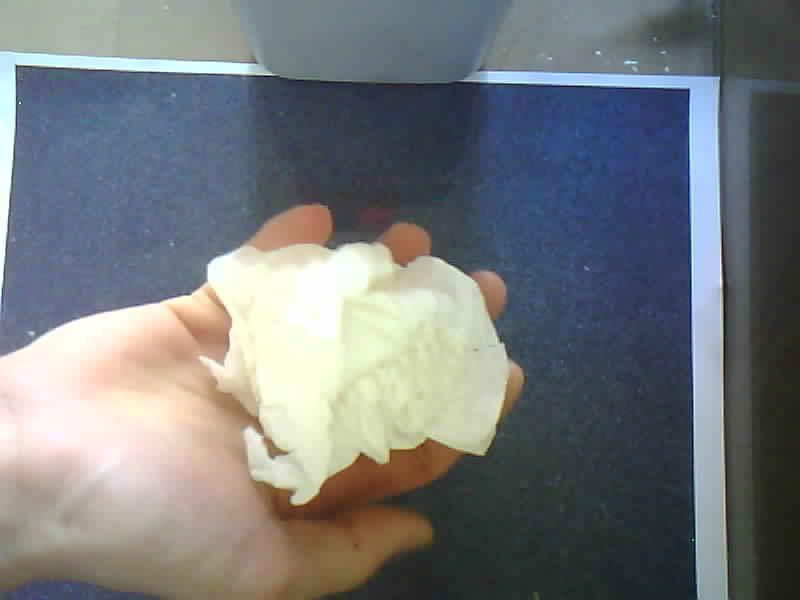paper: (196, 242, 509, 505)
